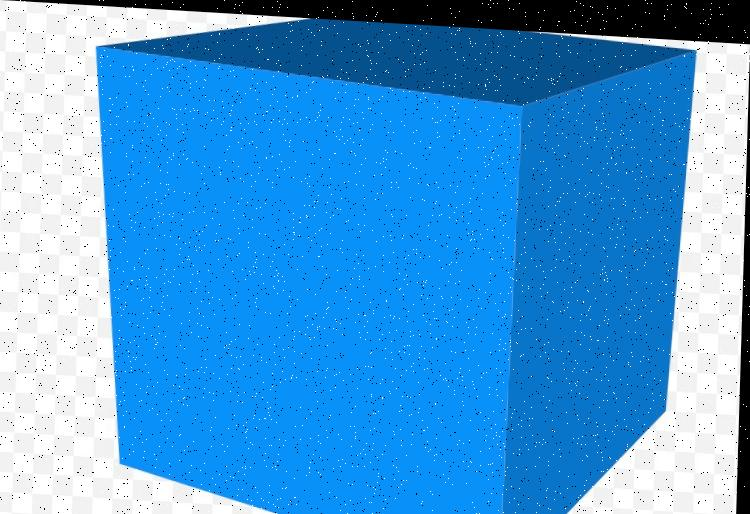cube: (89, 5, 708, 514)
